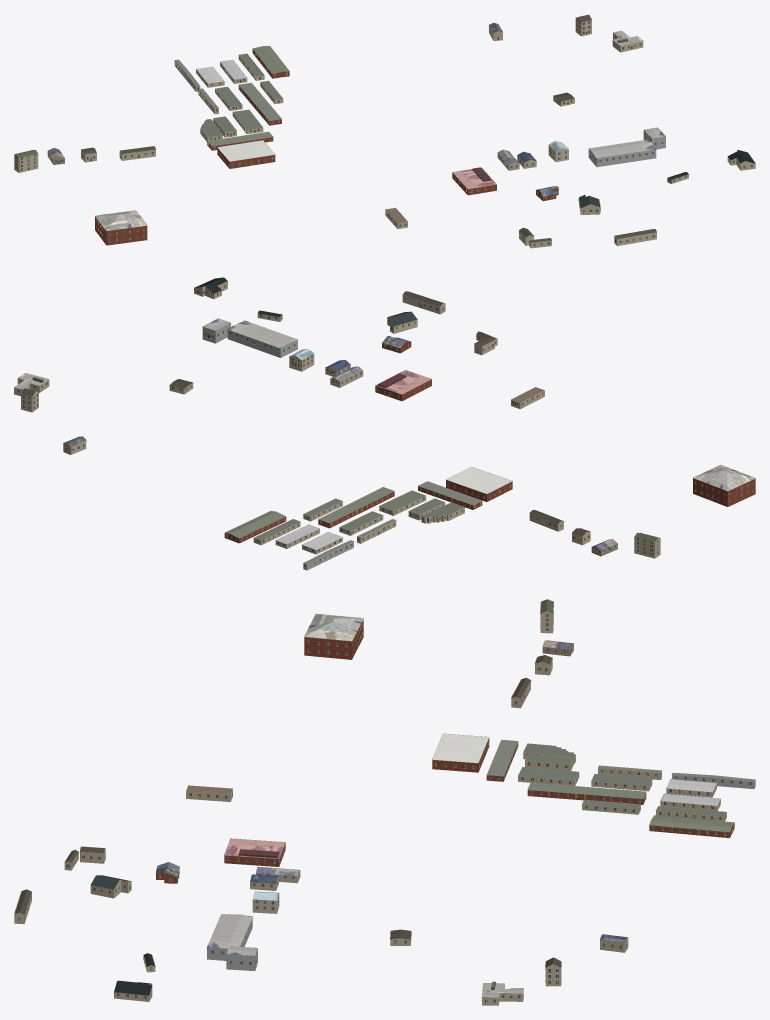
3 views of the same model, one above another, from view 1: azimuth 30°, elevation 25°; view 2: azimuth 150°, elevation 25°; view 3: azimuth 270°, elevation 25° (orthographic). The views are drawn at different scales.
Parts seen in each view (by area): view 1: 4_1_599472697_0, 4_1_632639655_9, 4_1_599472699_2, 4_1_599472703_6; view 2: 4_1_599472697_0, 4_1_632639655_9, 4_1_599472699_2, 4_1_599472703_6; view 3: 4_1_599472697_0, 4_1_632639655_9, 4_1_599472699_2, 4_1_599472703_6.
Boxes of the visible parts, box(x1,y1,x2,y2) form: 4_1_599472697_0: box(14, 19, 755, 246); 4_1_632639655_9: box(15, 14, 755, 242); 4_1_599472699_2: box(14, 17, 755, 248); 4_1_599472703_6: box(174, 60, 665, 167); 4_1_599472697_0: box(14, 278, 755, 567); 4_1_632639655_9: box(21, 277, 659, 564); 4_1_599472699_2: box(14, 281, 660, 558); 4_1_599472703_6: box(202, 323, 353, 570); 4_1_599472697_0: box(14, 602, 755, 1003); 4_1_632639655_9: box(14, 599, 755, 995); 4_1_599472699_2: box(14, 605, 726, 1005); 4_1_599472703_6: box(207, 775, 755, 970).
Bounding box in the file's own units: 463 × 29.27 × 383.
Materials: 16 (1 with a texture image).
